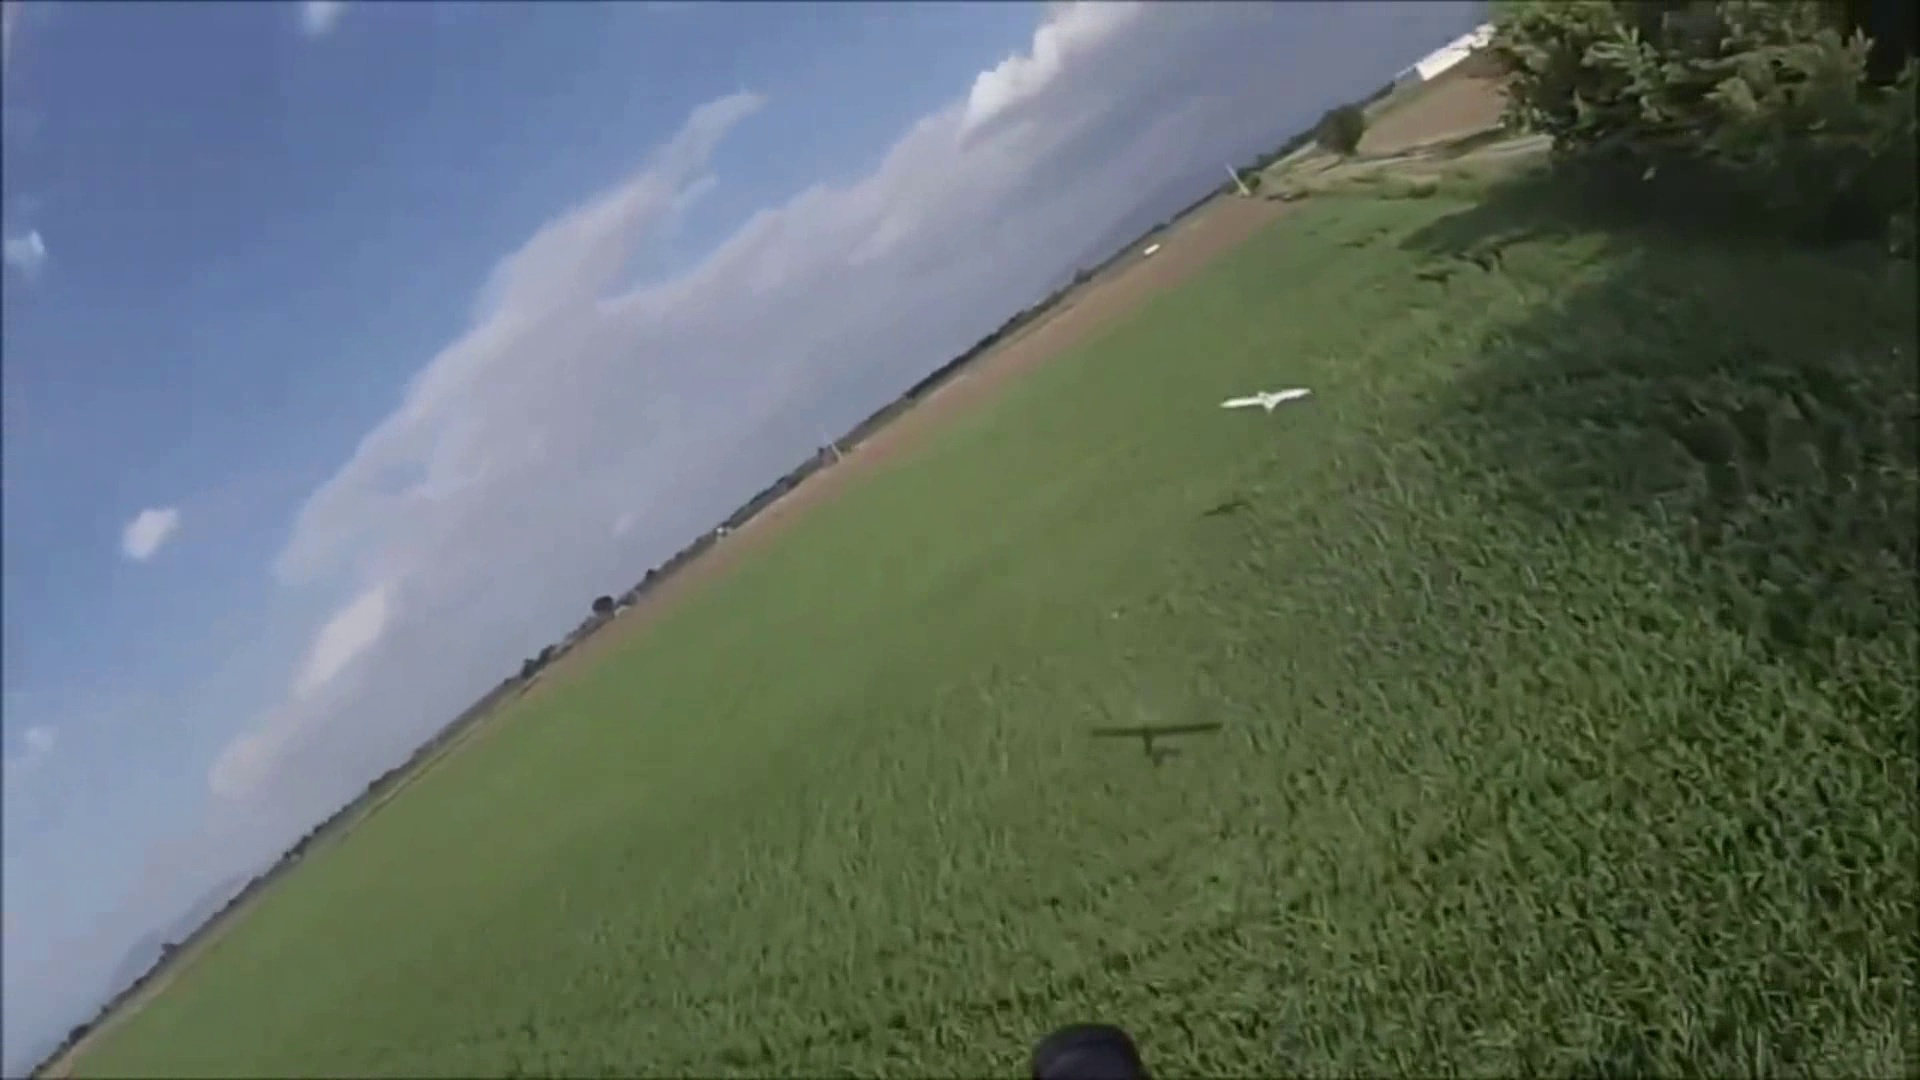airplane: (1218, 386, 1313, 411)
